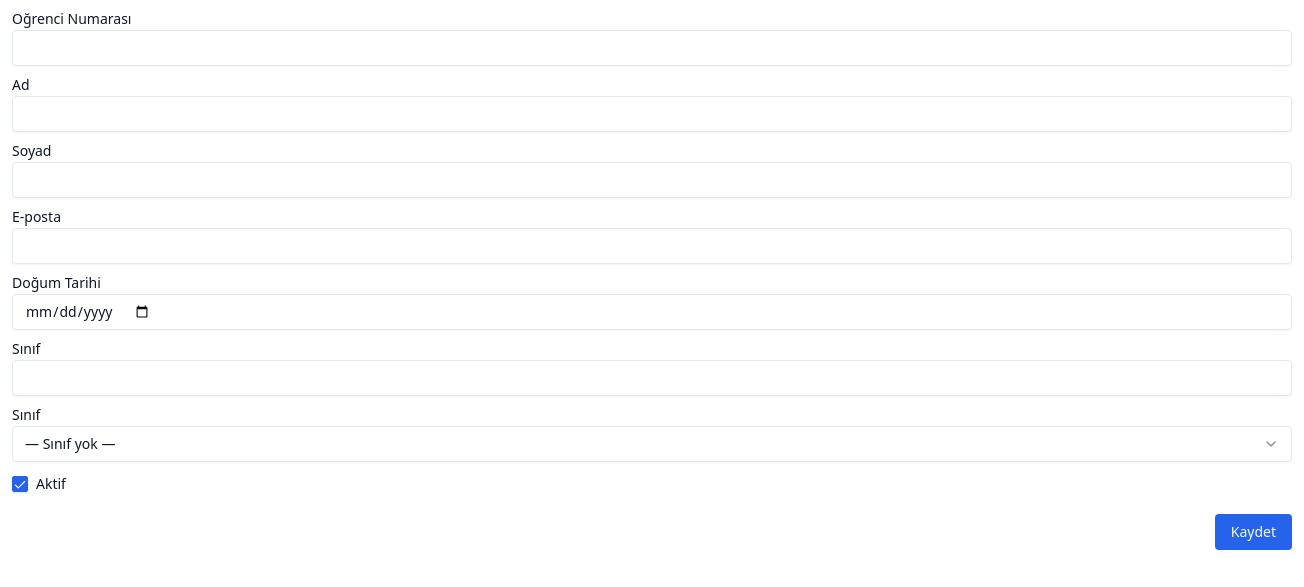
Test: StudentForm › validates email format when provided
In the field labelled "Öğrenci Numarası": (652, 48) [12,30,1292,66], type "12345"
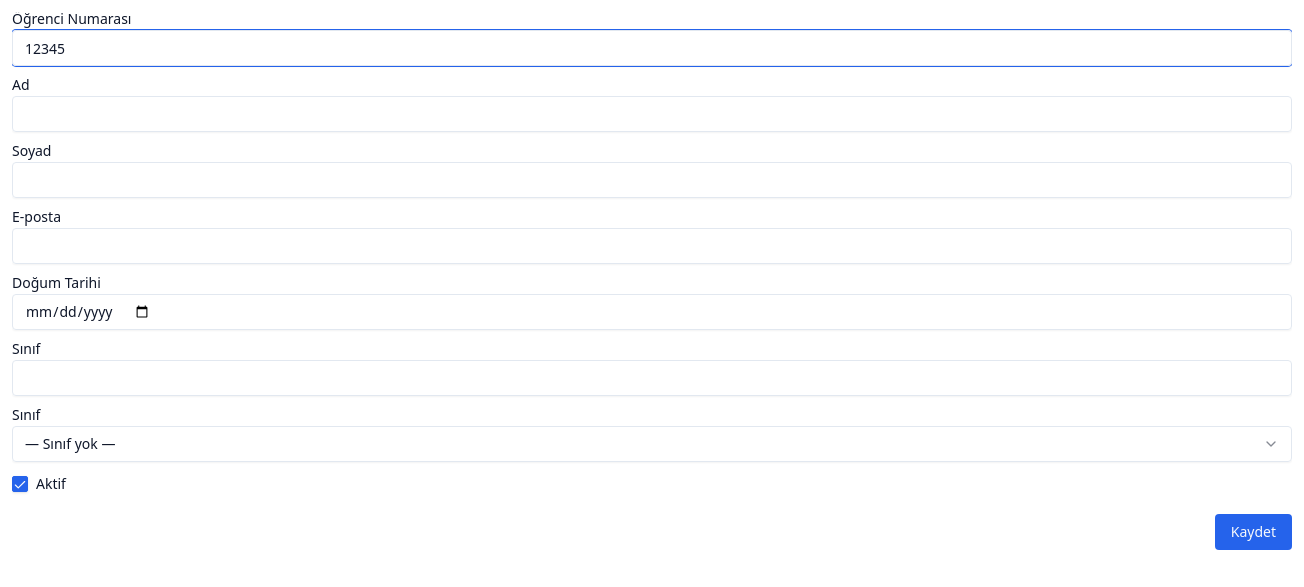
In the field labelled "Ad": (652, 114) [12,96,1292,132], type "Ali"
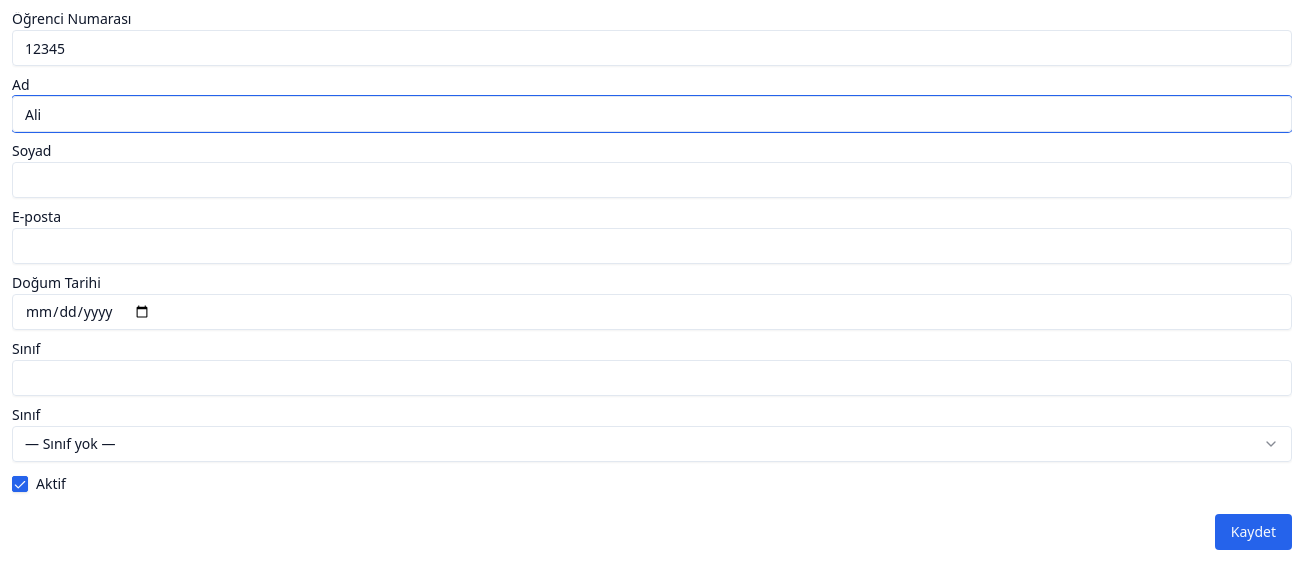
In the field labelled "Soyad": (652, 180) [12,162,1292,198], type "Veli"
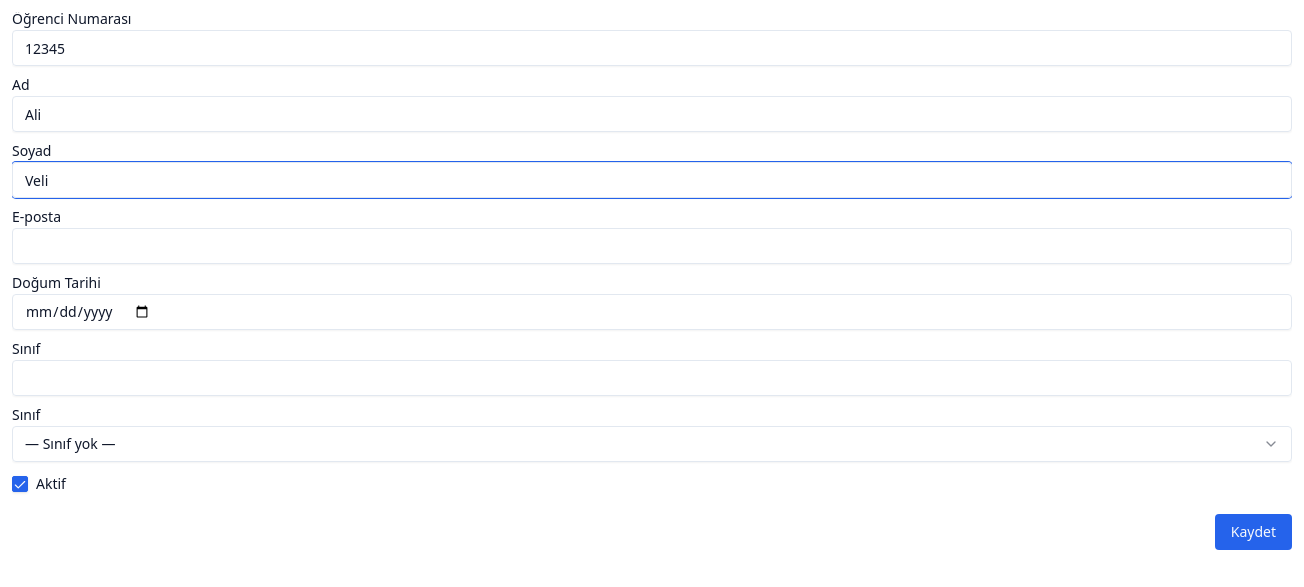
In the field labelled "E-posta": (652, 246) [12,228,1292,264], type "not-an-email"
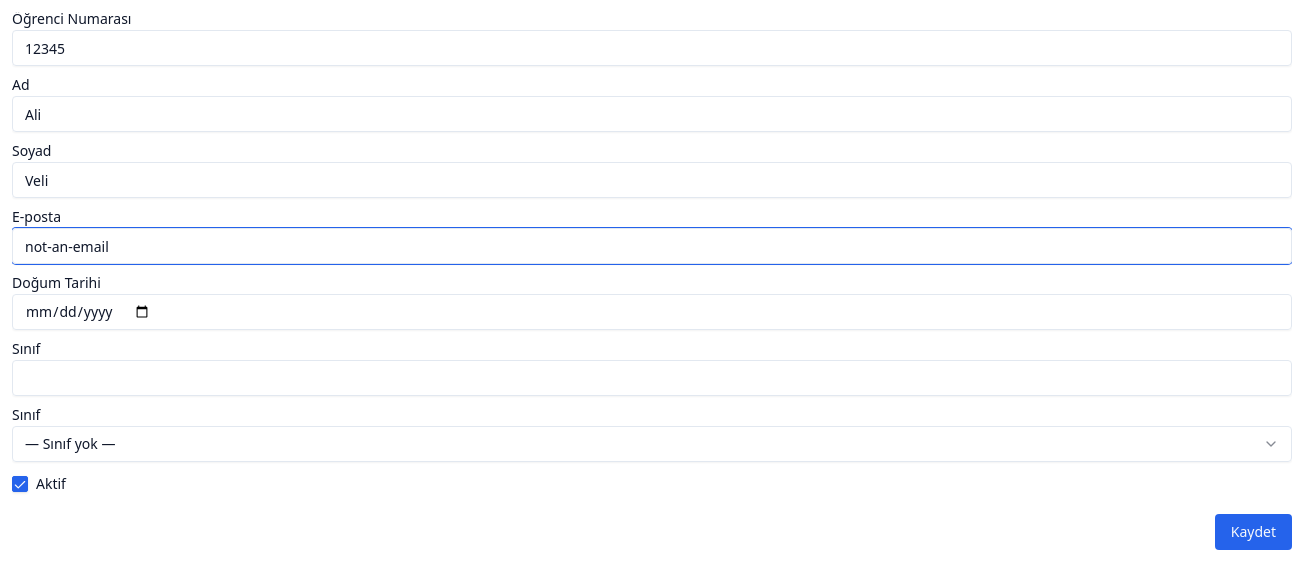
Click the button "Kaydet": (1253, 532) [1215,514,1292,550]
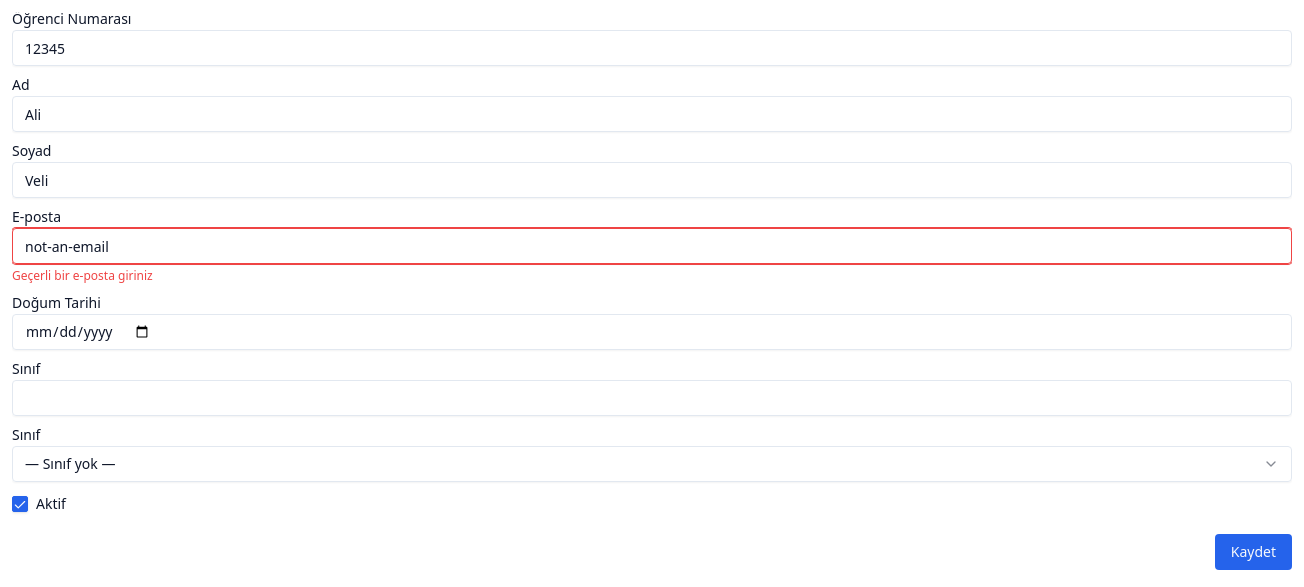
Expected: the message "Geçerli bir e-posta giriniz" is shown, [12,267,153,284]
